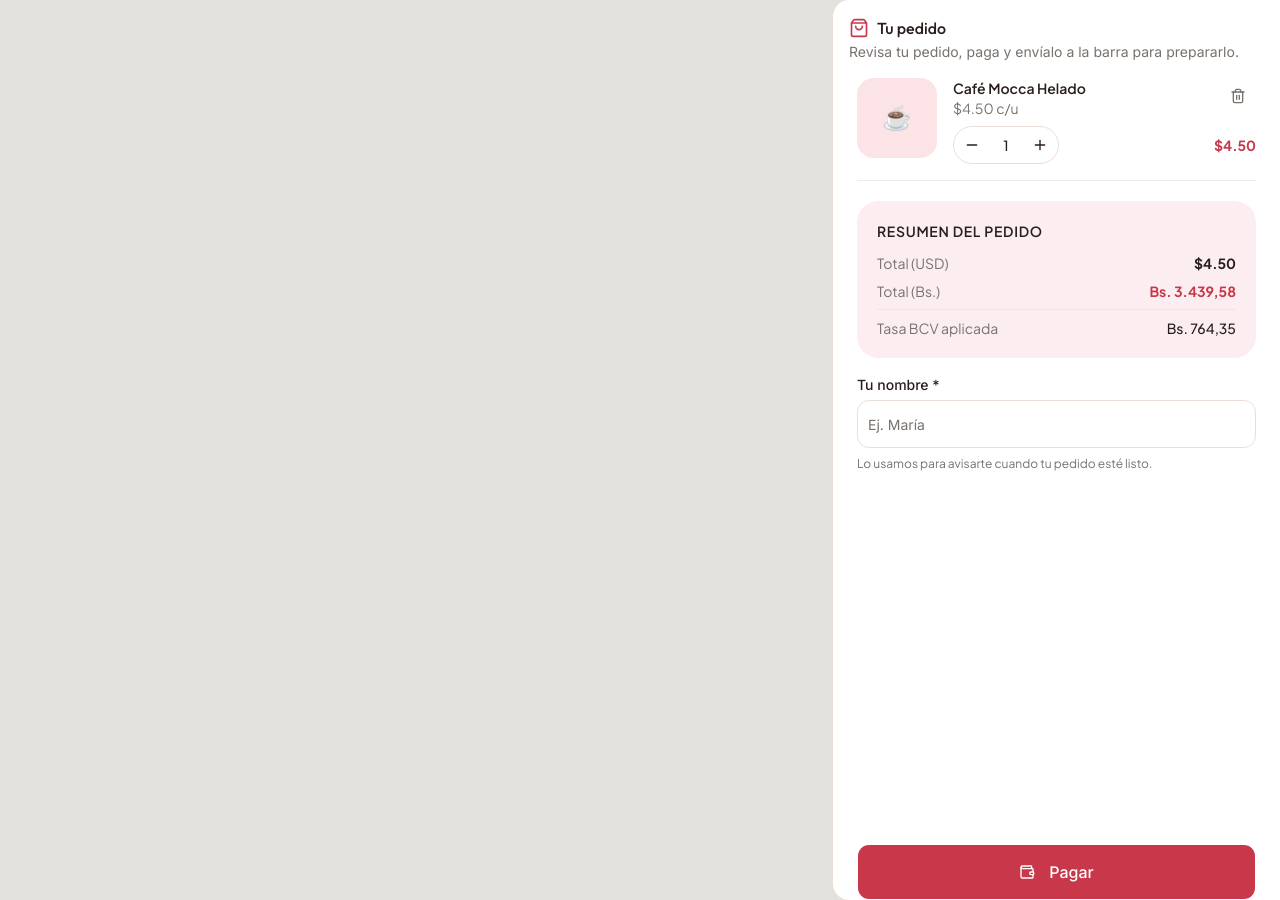
Scenario: CartDrawer › permite eliminar un item del pedido
Click the button named "eliminar café mocca helado del pedido": (1238,96) [1220,78,1256,114]
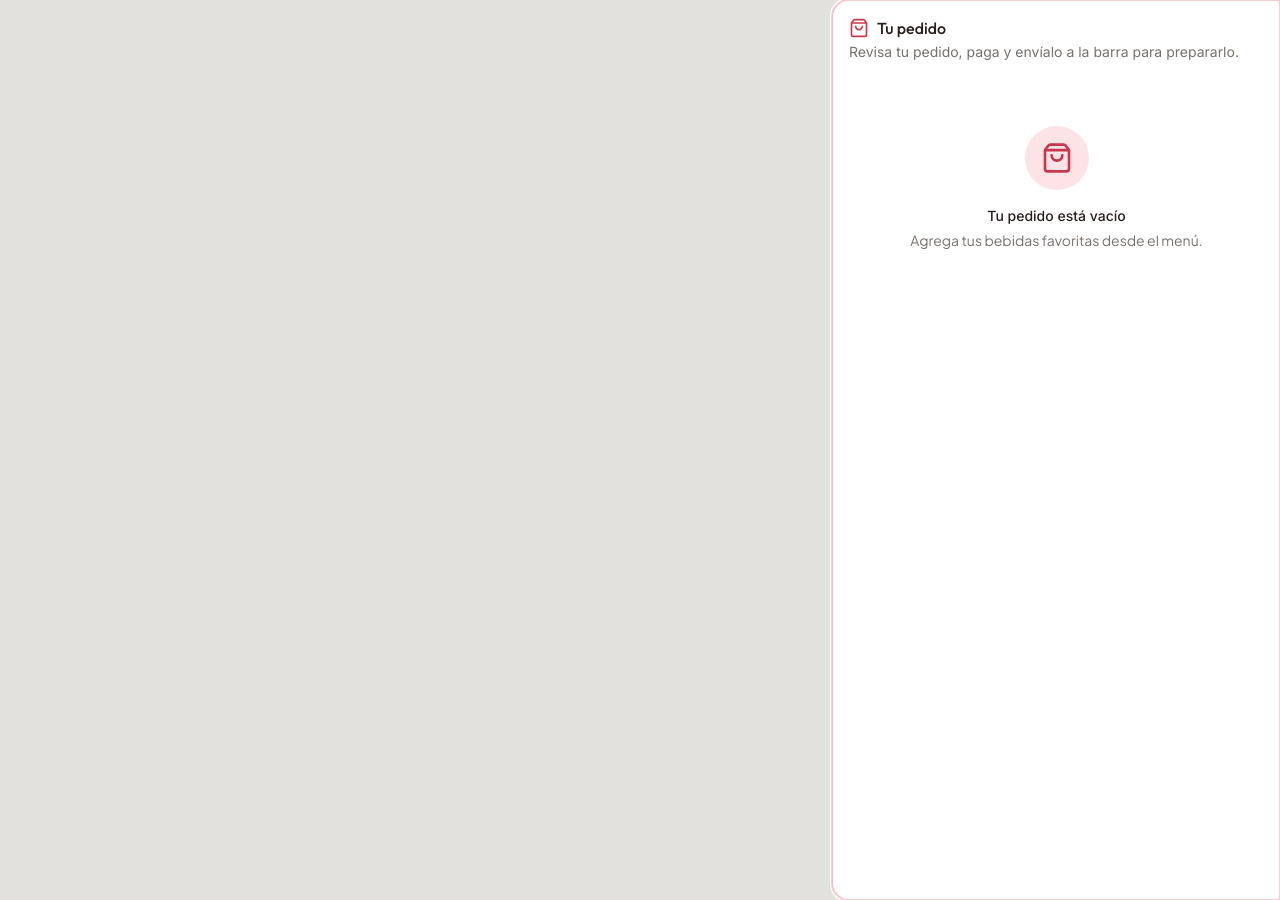
expect the text "Tu pedido está vacío" is shown: met, box [987,207,1126,224]
